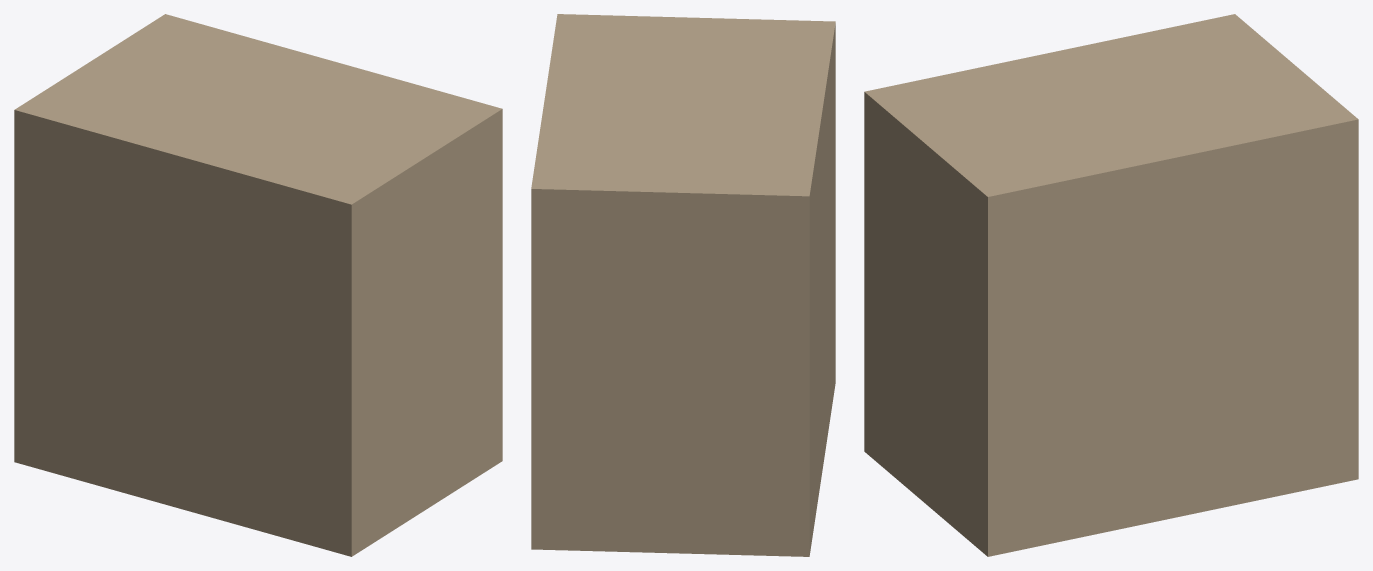
Rendered from bld_107716150.dae.
3 views of the same model, side by side, from view 1: azimuth 30°, elevation 25°; view 2: azimuth 150°, elevation 25°; view 3: azimuth 270°, elevation 25° (orthographic). The views are drawn at different scales.
Parts seen in each view (by area): view 1: bld_107716150; view 2: bld_107716150; view 3: bld_107716150.
Boxes of the visible parts, x1=… form: bld_107716150: x1=14, y1=14, x2=502, y2=556; bld_107716150: x1=531, y1=14, x2=835, y2=556; bld_107716150: x1=864, y1=14, x2=1358, y2=556.
Size of the model in its own units: 8.73 by 9.96 by 8.
